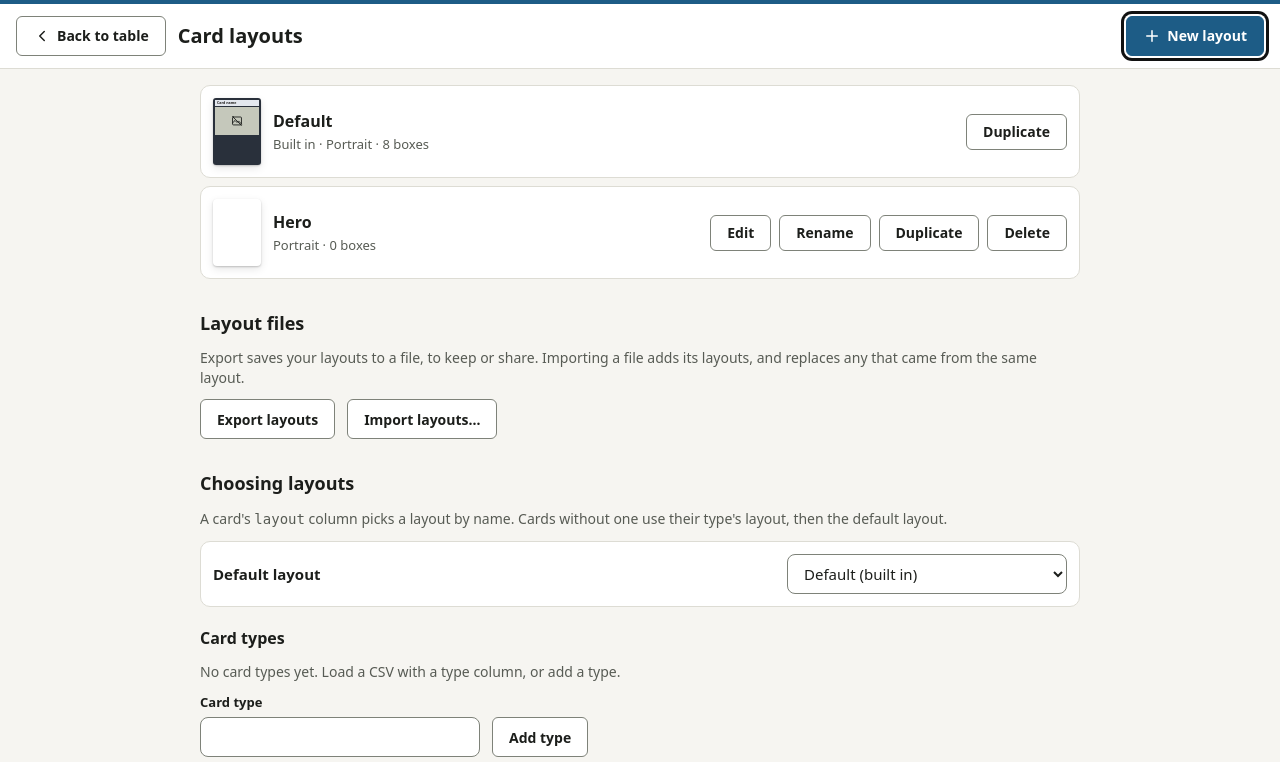
Test: LY-3 box properties › shows a prompt until a box is chosen, then the box’s properties
Click the button with aria-label "Edit Hero".
click(741, 232)  # box [710,214,771,250]
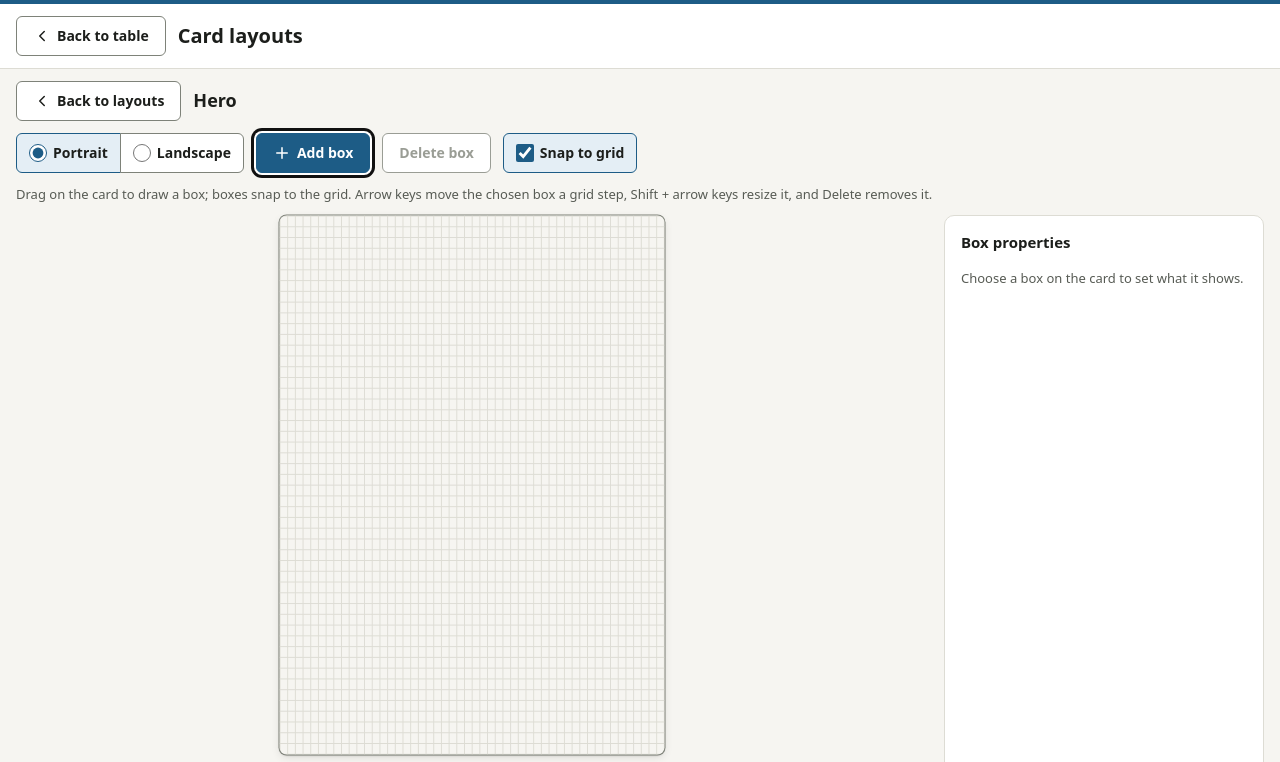
expect the element "properties" shows "Choose a box on the card to set what it shows.": met, box [961,269,1244,287]
Click the button "Add box".
click(313, 153)  # box [256,133,370,173]
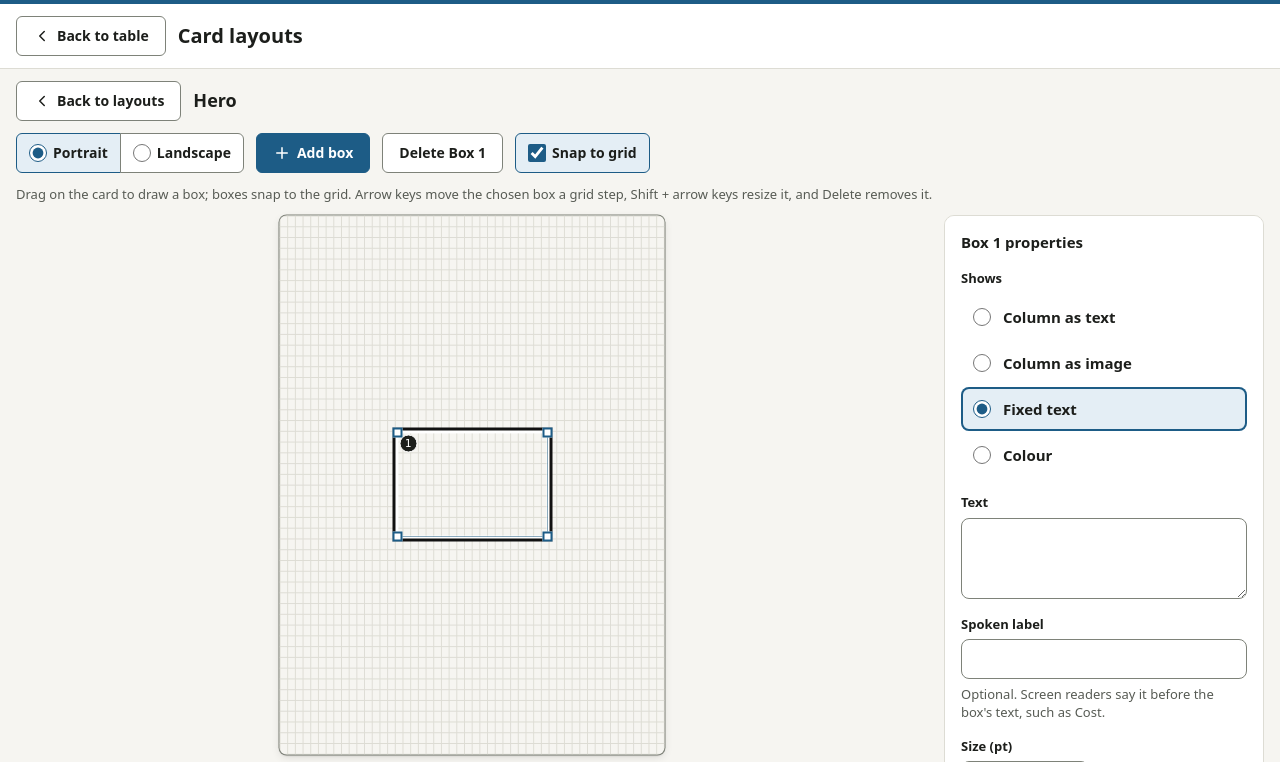
expect the heading "Box 1 properties" is shown: met, box [961,232,1083,252]
expect the radio button labelled "Fixed text" is checked: met, box [973,400,991,418]
